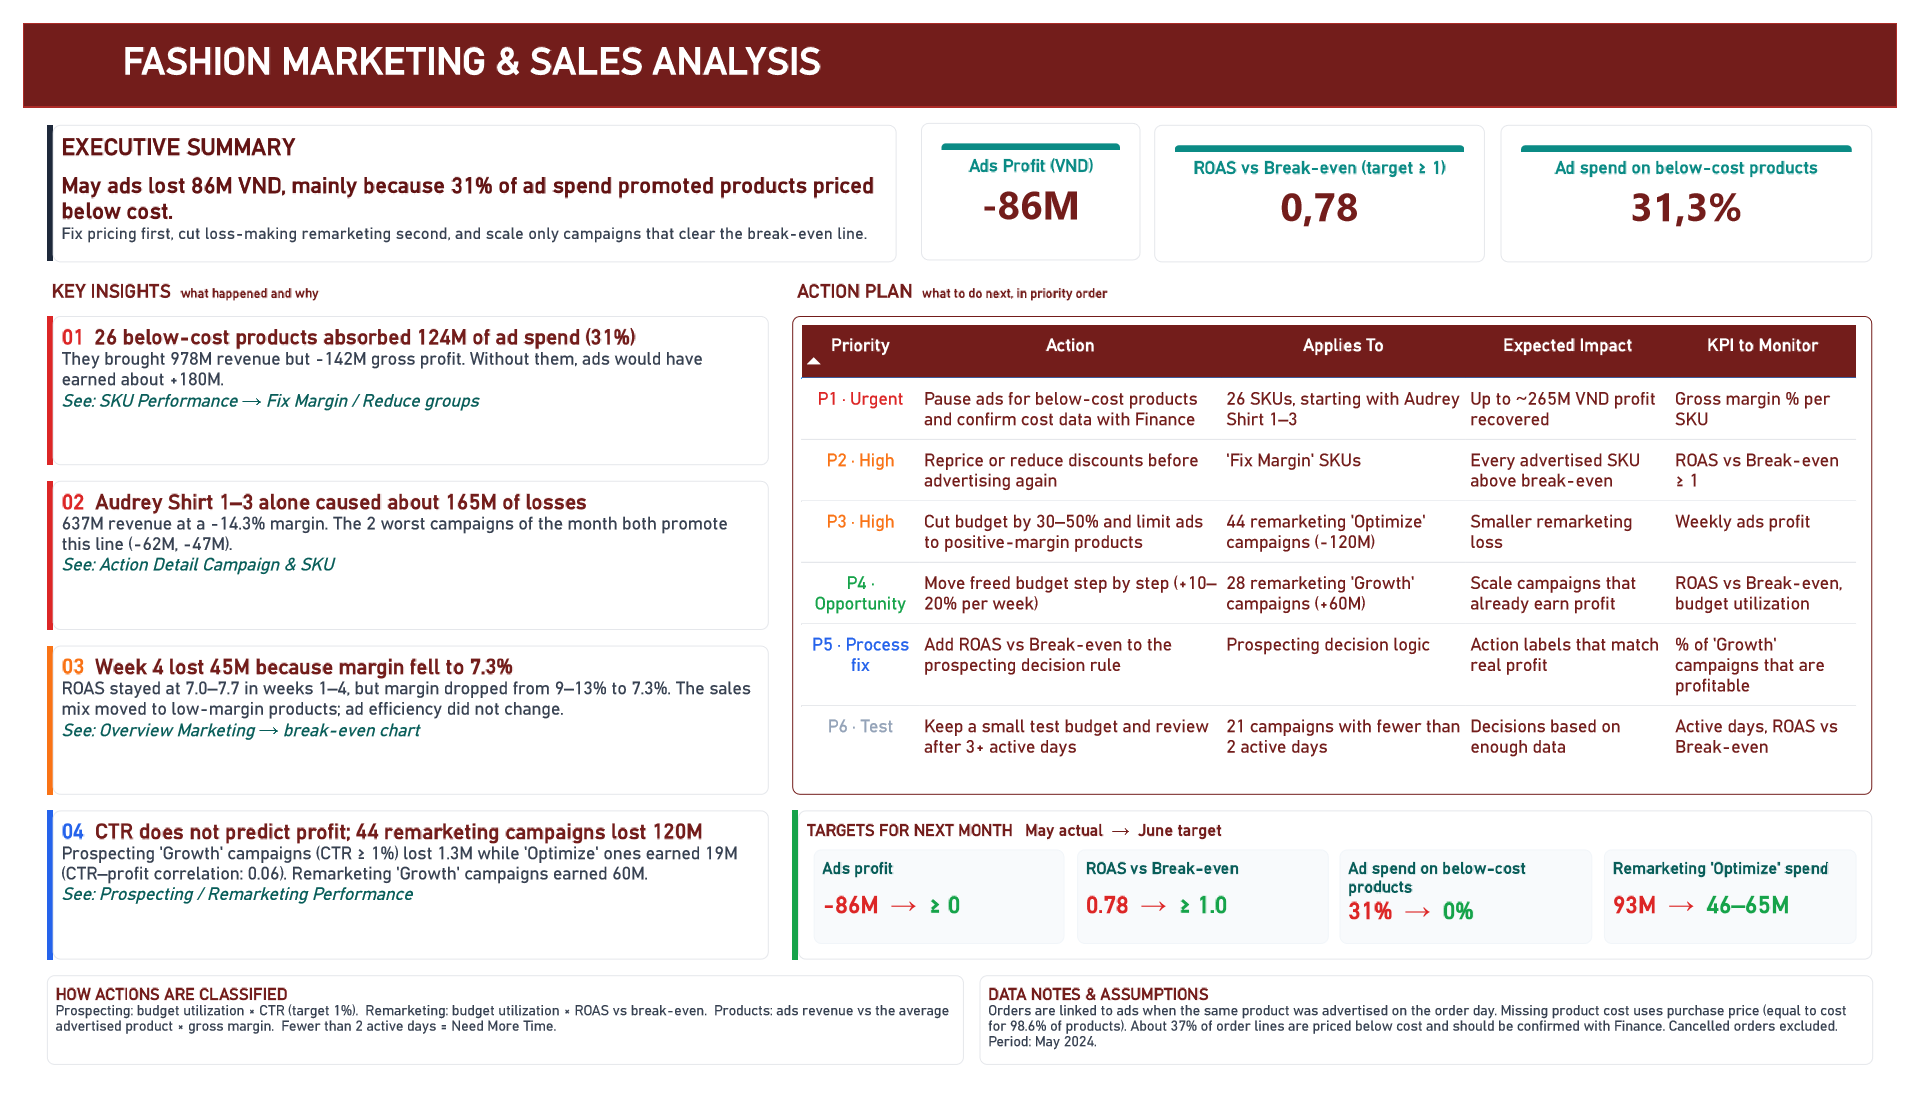

The page's visual inventory and layout, read from the dashboard file:
{"tool":"powerbi","page":{"name":"Recommendation & Action","canvas":[1920,1080],"ordinal":4},"visuals":[{"type":"shape","box":[0,0,1920,85.7],"z":0},{"type":"shape","box":[24,104,6,140],"z":1000},{"type":"textbox","box":[29.8,103.5,865.6,141],"z":2000},{"type":"cardVisual","fields":{"Data":["_Measure._Ads Profit"]},"box":[919.9,102.2,225.1,141],"z":3000},{"type":"cardVisual","fields":{"Data":["_Measure.ROAS vs Break-even"]},"box":[1159.2,103.5,339,141],"z":4000},{"type":"cardVisual","fields":{"Data":["_Measure.Below-cost Spend %"]},"box":[1513.7,103.5,381.7,141],"z":5000},{"type":"textbox","box":[24,258,740,36],"z":6000},{"type":"textbox","box":[788,258,1108,36],"z":7000},{"type":"shape","box":[24,300,6,153],"z":8000},{"type":"textbox","box":[30,300,734,153],"z":9000},{"type":"shape","box":[24,469,6,153],"z":10000},{"type":"textbox","box":[30,469,734,153],"z":11000},{"type":"shape","box":[24,638,6,153],"z":12000},{"type":"textbox","box":[30,638,734,153],"z":13000},{"type":"shape","box":[24,807,6,153],"z":14000},{"type":"textbox","box":[30,807,734,153],"z":15000},{"type":"tableEx","fields":{"Values":["_Action Plan.Priority","_Action Plan.Action","_Action Plan.Applies To","_Action Plan.Expected Impact","_Action Plan.KPI to Monitor"]},"box":[787.9,300.2,1107.5,490.4],"z":16000},{"type":"shape","box":[787.9,807.3,6.5,152.7],"z":17000},{"type":"textbox","box":[794.4,807.3,1101,152.7],"z":18000},{"type":"textbox","box":[809.9,847.4,257.5,97],"z":19000},{"type":"textbox","box":[1080.3,847.4,257.5,97],"z":20000},{"type":"textbox","box":[1349.4,847.4,258.8,97],"z":21000},{"type":"textbox","box":[1619.8,847.4,258.8,97],"z":22000},{"type":"textbox","box":[24,976,940,92],"z":23000},{"type":"textbox","box":[97.1,11.4,798.6,62.9],"z":24000},{"type":"textbox","box":[980,976,916,92],"z":25000}]}

Visuals, with their boxes in screenshot pixels (x1, y1, x2, y2), scaled from the page's 1920x1080 canvas onto the 1920x1100 screenshot:
shape: bbox=[0, 0, 1919, 87]
shape: bbox=[24, 106, 30, 249]
textbox: bbox=[30, 105, 895, 249]
cardVisual - _Measure._Ads Profit: bbox=[920, 104, 1145, 248]
cardVisual - _Measure.ROAS vs Break-even: bbox=[1159, 105, 1498, 249]
cardVisual - _Measure.Below-cost Spend %: bbox=[1514, 105, 1895, 249]
textbox: bbox=[24, 263, 764, 299]
textbox: bbox=[788, 263, 1896, 299]
shape: bbox=[24, 306, 30, 461]
textbox: bbox=[30, 306, 764, 461]
shape: bbox=[24, 478, 30, 634]
textbox: bbox=[30, 478, 764, 634]
shape: bbox=[24, 650, 30, 806]
textbox: bbox=[30, 650, 764, 806]
shape: bbox=[24, 822, 30, 978]
textbox: bbox=[30, 822, 764, 978]
tableEx - _Action Plan.Priority x _Action Plan.Action: bbox=[788, 306, 1895, 805]
shape: bbox=[788, 822, 794, 978]
textbox: bbox=[794, 822, 1895, 978]
textbox: bbox=[810, 863, 1067, 962]
textbox: bbox=[1080, 863, 1338, 962]
textbox: bbox=[1349, 863, 1608, 962]
textbox: bbox=[1620, 863, 1879, 962]
textbox: bbox=[24, 994, 964, 1088]
textbox: bbox=[97, 12, 896, 76]
textbox: bbox=[980, 994, 1896, 1088]
